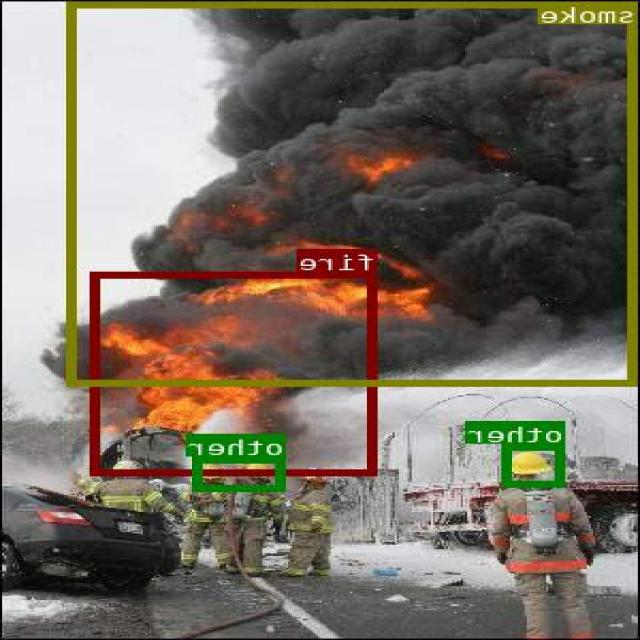fire: (92, 270, 379, 475)
other: (196, 456, 288, 489), (505, 443, 566, 486)
smoke: (69, 1, 638, 385)
